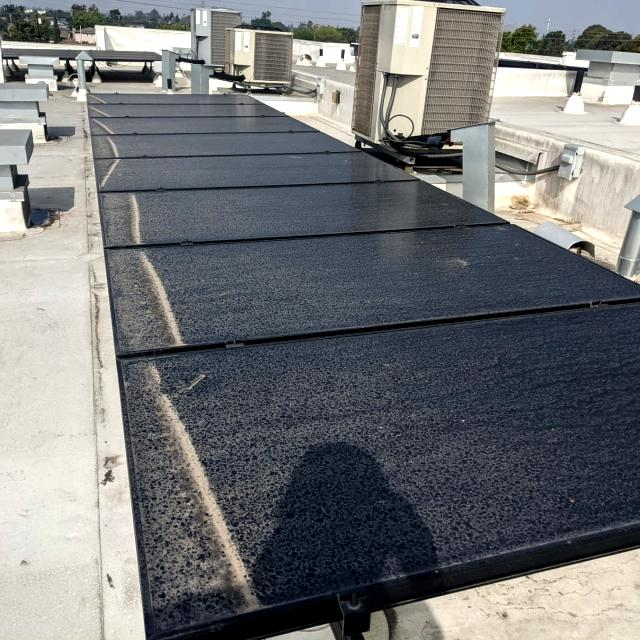dust: (126, 360, 270, 639), (104, 245, 211, 344), (412, 236, 492, 294), (92, 88, 134, 174), (96, 198, 166, 238)
